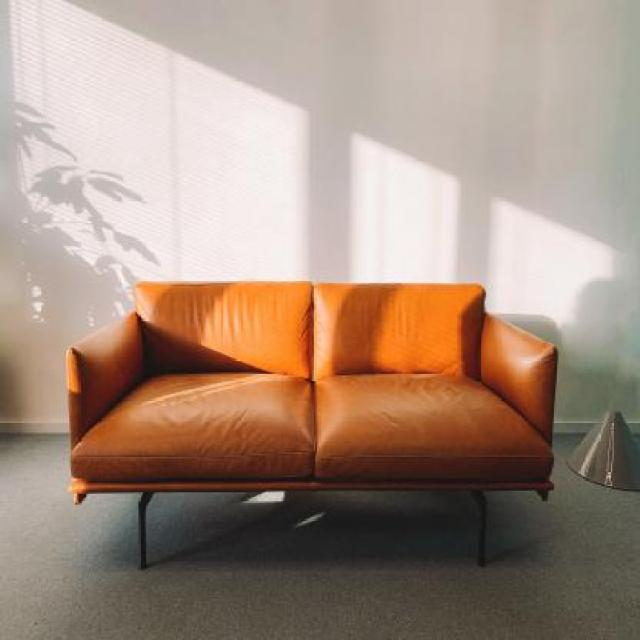floor: (0, 422, 640, 636)
